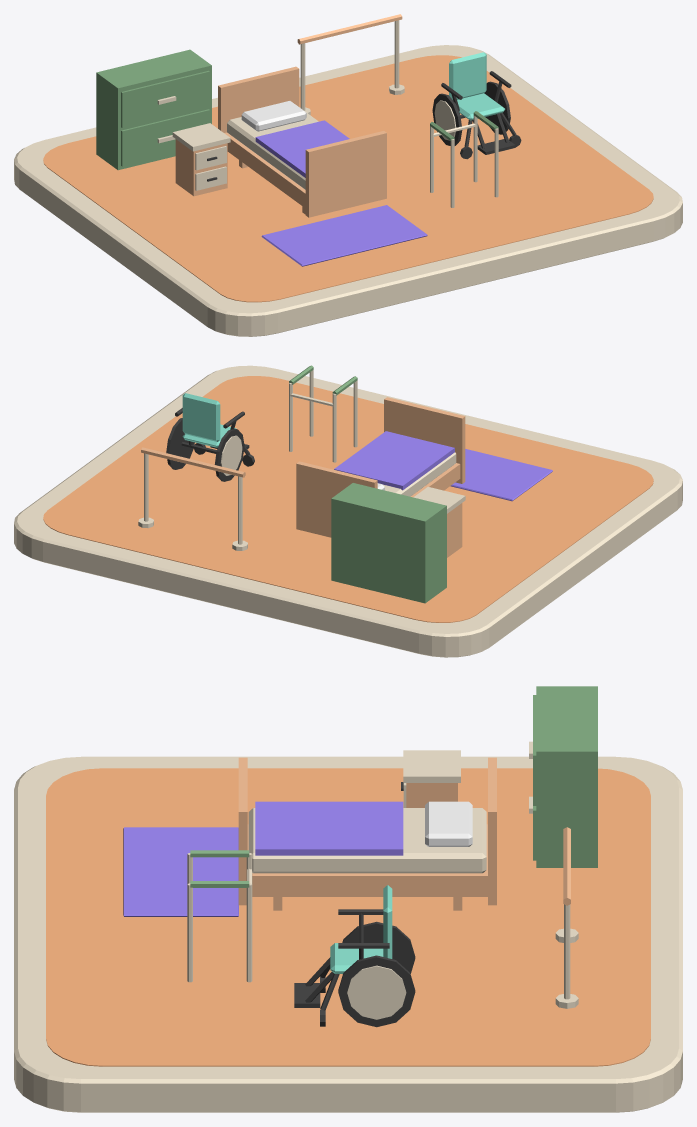
3 renders of one model, top to bottom at view 1: azimuth 30°, elevation 25°; view 2: azimuth 150°, elevation 25°; view 3: azimuth 270°, elevation 25°, orthographic. The views are drawn at different scales.
Parts seen in each view (by area): view 1: COM-02 Floor Surface, COM-01 Rounded Base Direct, Cabinet, End board, Rug, End board.001, Blanket, Mattress, Frame, Backrest, Body, Pillow (+8 smaller); view 2: COM-02 Floor Surface, COM-01 Rounded Base Direct, Cabinet, Blanket, End board, End board.001, Rug, Backrest, Mattress, Rear wheel.001, Body, Handrail (+4 smaller); view 3: COM-02 Floor Surface, COM-01 Rounded Base Direct, Cabinet, Rug, Blanket, Mattress, Frame, Push rim.001, Pillow, Top, Rear wheel.001, Rear wheel (+7 smaller).
Part boxes in pixels (x1,y1,x2,y2): COM-02 Floor Surface: (43, 55, 653, 302); COM-01 Rounded Base Direct: (14, 45, 682, 336); Cabinet: (96, 49, 211, 170); End board: (305, 131, 386, 217); Rug: (261, 205, 427, 266); End board.001: (218, 66, 299, 132); Blanket: (255, 120, 349, 177); Mattress: (227, 105, 318, 189); Frame: (224, 132, 305, 208); Backrest: (449, 52, 486, 99); Body: (175, 139, 227, 196); Pillow: (241, 101, 306, 131); COM-02 Floor Surface: (43, 376, 653, 622); COM-01 Rounded Base Direct: (14, 365, 682, 657); Cabinet: (331, 483, 446, 603); Blanket: (334, 431, 454, 490); End board: (384, 397, 465, 483); End board.001: (296, 461, 377, 537); Rug: (450, 449, 552, 501); Backrest: (182, 393, 220, 441); Mattress: (383, 452, 456, 496); Rear wheel.001: (166, 418, 194, 469); Body: (447, 503, 462, 557); Handrail: (141, 447, 245, 477); COM-02 Floor Surface: (46, 768, 650, 1066); COM-01 Rounded Base Direct: (14, 756, 682, 1112); Cabinet: (529, 686, 597, 867); Rug: (123, 827, 238, 916); Blanket: (255, 801, 403, 855); Mattress: (248, 808, 486, 873); Frame: (247, 824, 487, 896); Push rim.001: (347, 965, 406, 1019); Pillow: (425, 801, 472, 846); Top: (403, 750, 460, 782); Rear wheel.001: (338, 955, 415, 1027); Rear wheel: (342, 921, 415, 973).
Size of the model in its own units: 6 by 1.3 by 5.2.
Materials: 1 (1 with a texture image).
